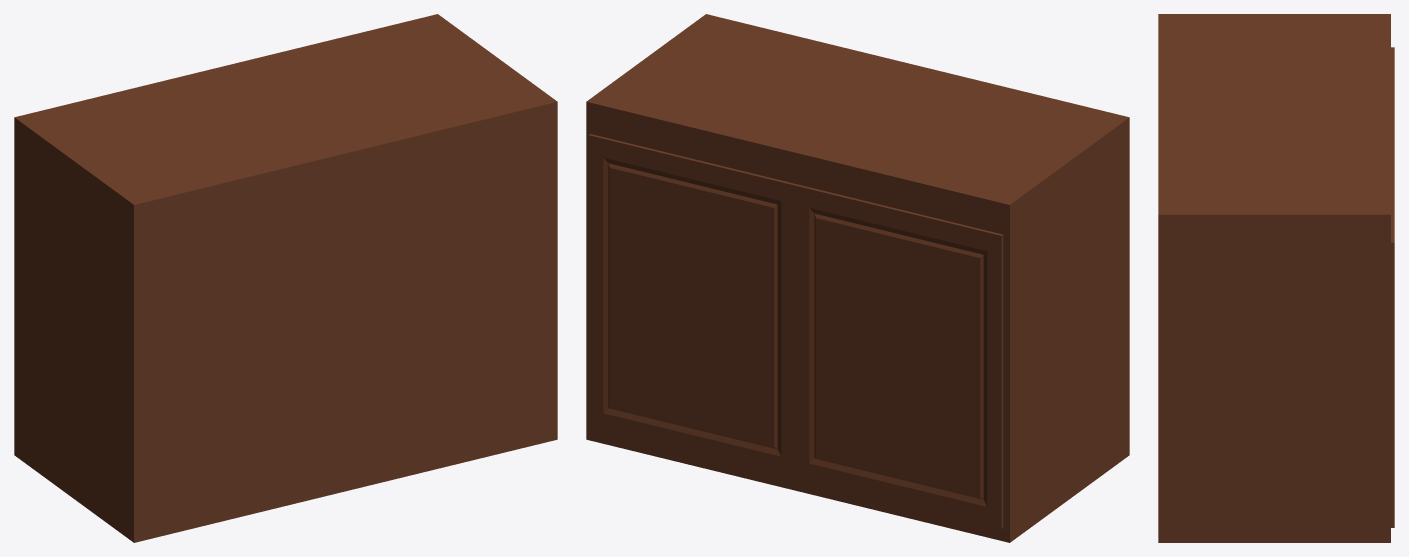
The model's file is UpperCabinets.fbx.
3 views of the same model, side by side, from view 1: azimuth 30°, elevation 25°; view 2: azimuth 150°, elevation 25°; view 3: azimuth 270°, elevation 25° (orthographic). The views are drawn at different scales.
Parts seen in each view (by area): view 1: Cabinets; view 2: Cabinets, CabDoor2.001, CabDoor1.001; view 3: Cabinets, CabDoor1.001, CabDoor2.001.
Boxes of the visible parts, x1,y1,x2,y2 form: Cabinets: (14, 14, 557, 542); Cabinets: (586, 14, 1129, 542); CabDoor2.001: (795, 184, 1003, 529); CabDoor1.001: (589, 134, 796, 478); Cabinets: (1158, 14, 1390, 542); CabDoor1.001: (1391, 145, 1394, 527); CabDoor2.001: (1391, 47, 1394, 145).
Bounding box in the file's own units: 3.81 × 2.91 × 1.89.
